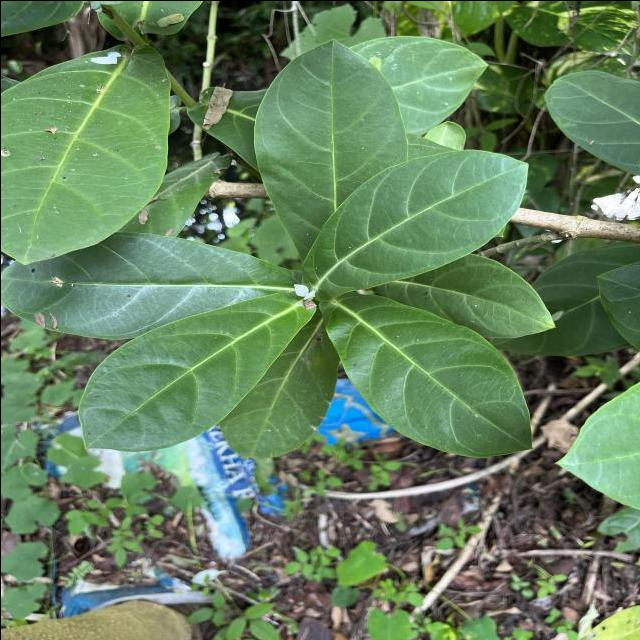Calotropis gigantea: (75, 291, 319, 452), (0, 40, 173, 266), (318, 290, 534, 458), (251, 34, 409, 260), (304, 147, 529, 299), (0, 230, 302, 340), (218, 309, 340, 460)
